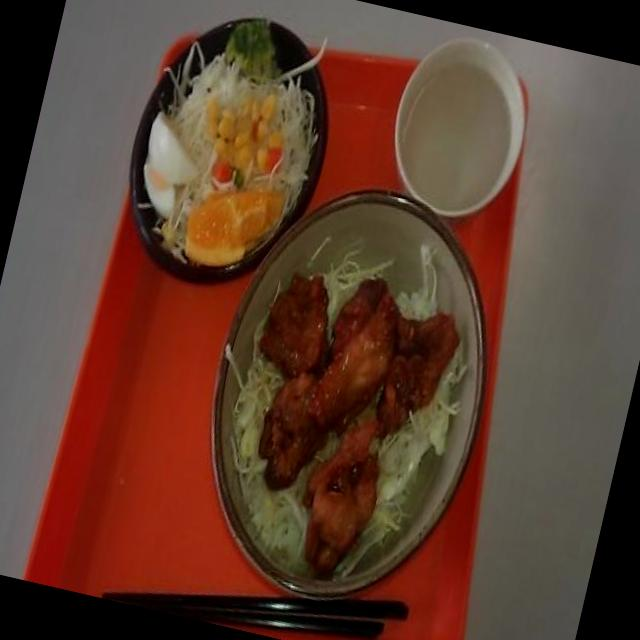Green Salad: (147, 18, 336, 215)
